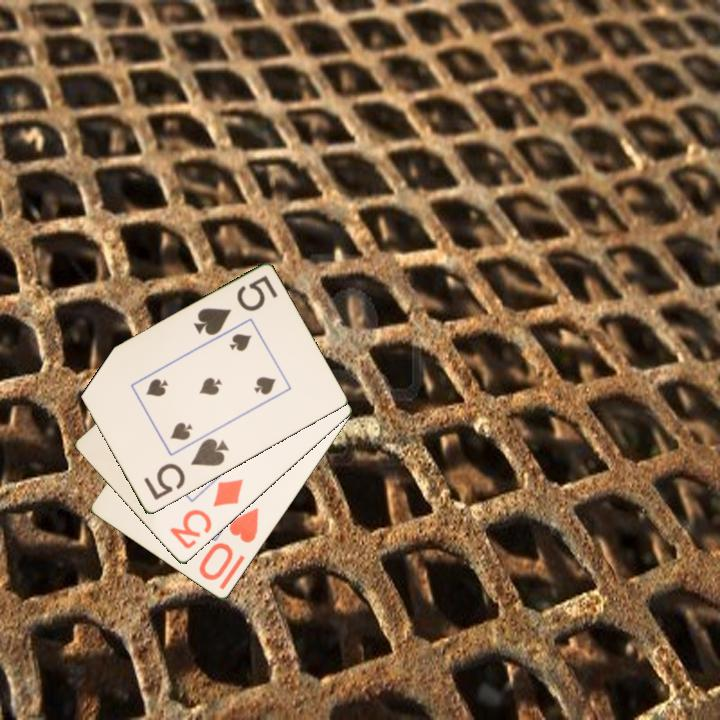10h: (195, 504, 262, 584)
3d: (166, 475, 246, 552)
5s: (140, 435, 232, 503), (190, 272, 281, 339)
